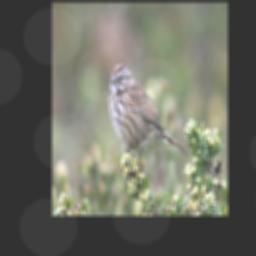Sparrow: (105, 63, 191, 174)
